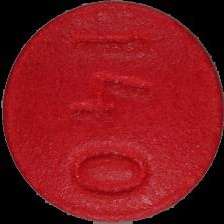0555-0140: (0, 0, 224, 224)
